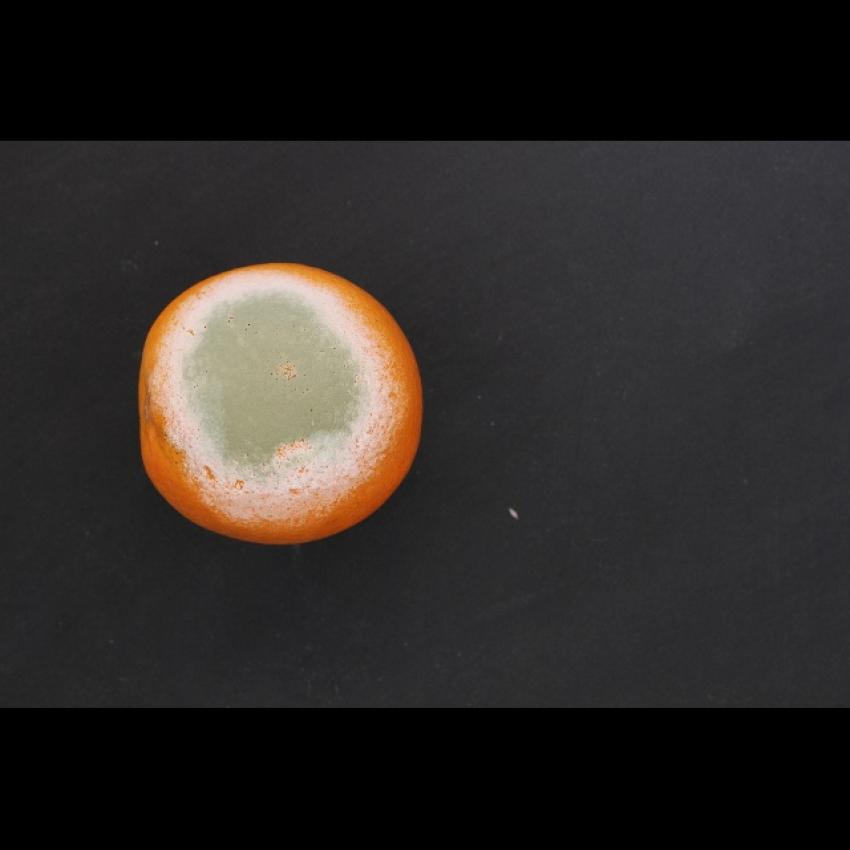Mal estado: (130, 256, 428, 548)
